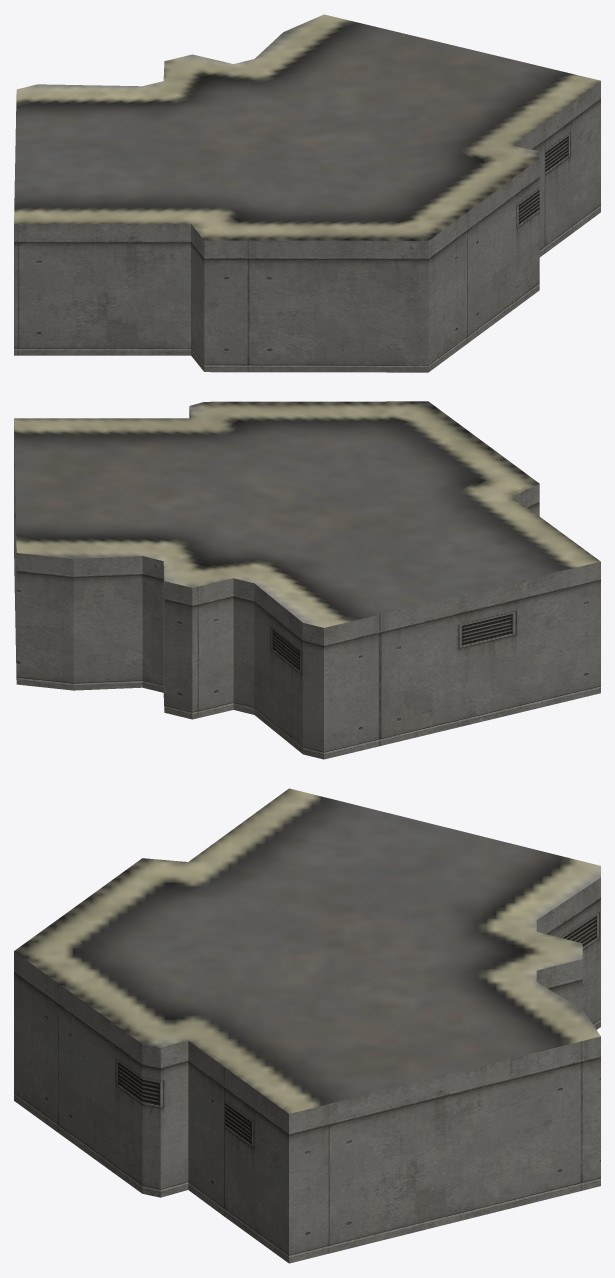
The model's file is building_medium_34.glb.
3 views of the same model, one above another, from view 1: azimuth 30°, elevation 25°; view 2: azimuth 150°, elevation 25°; view 3: azimuth 270°, elevation 25° (orthographic). The views are drawn at different scales.
Parts seen in each view (by area): view 1: buildings/saxarba/building_medium/building_medium_34; view 2: buildings/saxarba/building_medium/building_medium_34; view 3: buildings/saxarba/building_medium/building_medium_34.
Part boxes in pixels (left/top/right/bottom): buildings/saxarba/building_medium/building_medium_34: left=14, top=14, right=600, bottom=372; buildings/saxarba/building_medium/building_medium_34: left=14, top=401, right=600, bottom=759; buildings/saxarba/building_medium/building_medium_34: left=14, top=788, right=600, bottom=1263.
Bounding box in the file's own units: 84 × 18 × 64.
